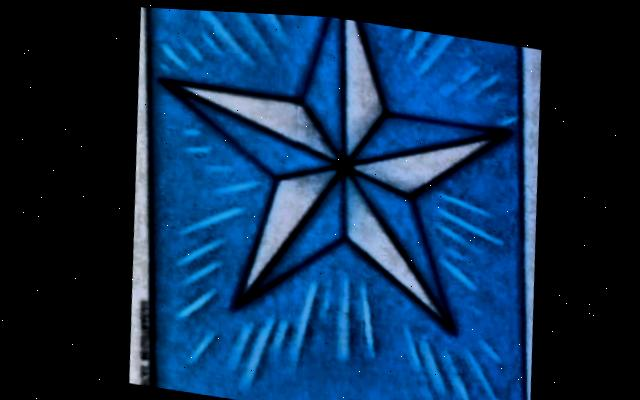La Estrella: (100, 4, 561, 400)
